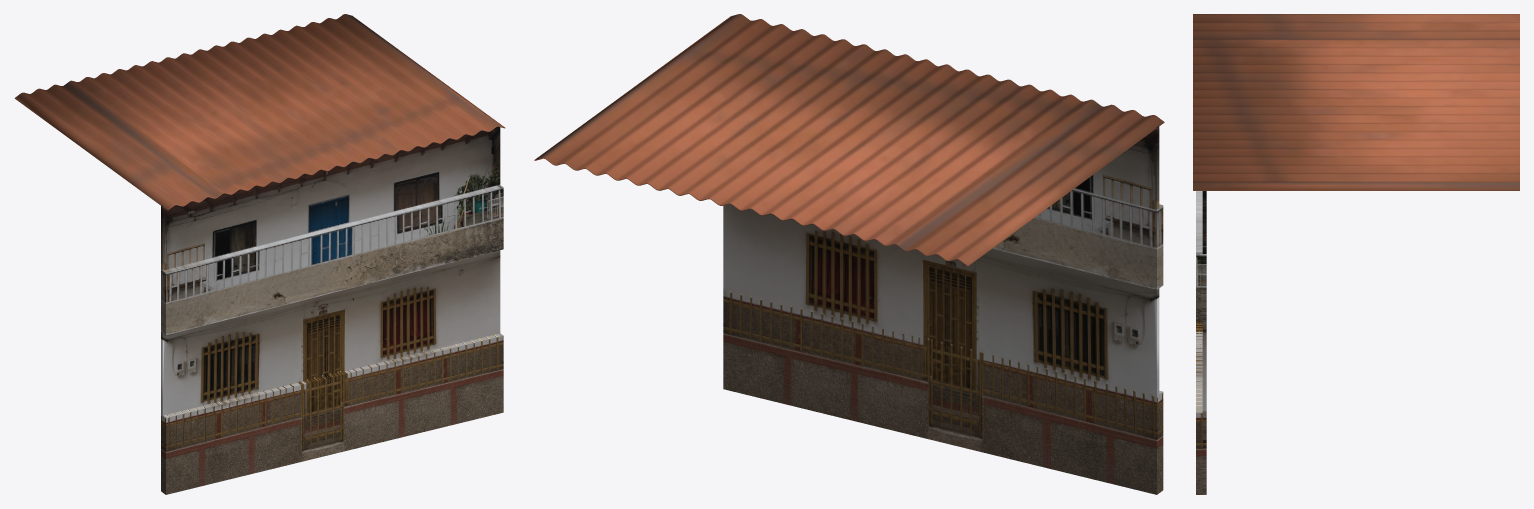
The model's file is casa_derecha_04S.fbx.
The picture shows the model from 3 angles, left to right: view 1: azimuth 30°, elevation 25°; view 2: azimuth 150°, elevation 25°; view 3: azimuth 270°, elevation 25°; orthographic projection. The views are drawn at different scales.
Visible parts, largest first — view 1: casa_derecha_04S.001, Techo_03.002; view 2: casa_derecha_04S.001, Techo_03.002; view 3: Techo_03.002, casa_derecha_04S.001.
Part boxes in pixels (x1=…): casa_derecha_04S.001: x1=161, y1=126, x2=503, y2=494; Techo_03.002: x1=14, y1=14, x2=505, y2=210; casa_derecha_04S.001: x1=723, y1=126, x2=1163, y2=494; Techo_03.002: x1=534, y1=14, x2=1164, y2=266; Techo_03.002: x1=1193, y1=14, x2=1519, y2=190; casa_derecha_04S.001: x1=1196, y1=191, x2=1206, y2=494.
Bounding box in the file's own units: 711 × 581 × 557.
